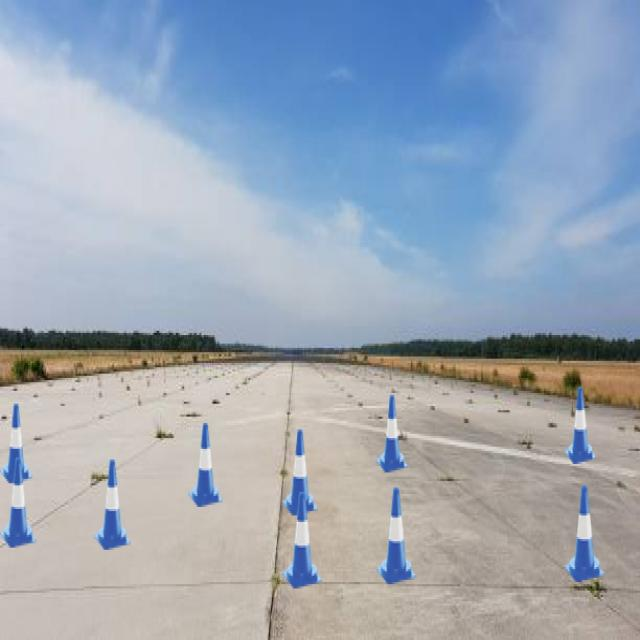blue_cone: (282, 492, 322, 588), (565, 485, 604, 582), (377, 488, 416, 584), (94, 460, 131, 550), (0, 458, 37, 548), (282, 430, 318, 516), (188, 423, 223, 507), (0, 403, 32, 483), (376, 395, 408, 473), (565, 386, 596, 464)
